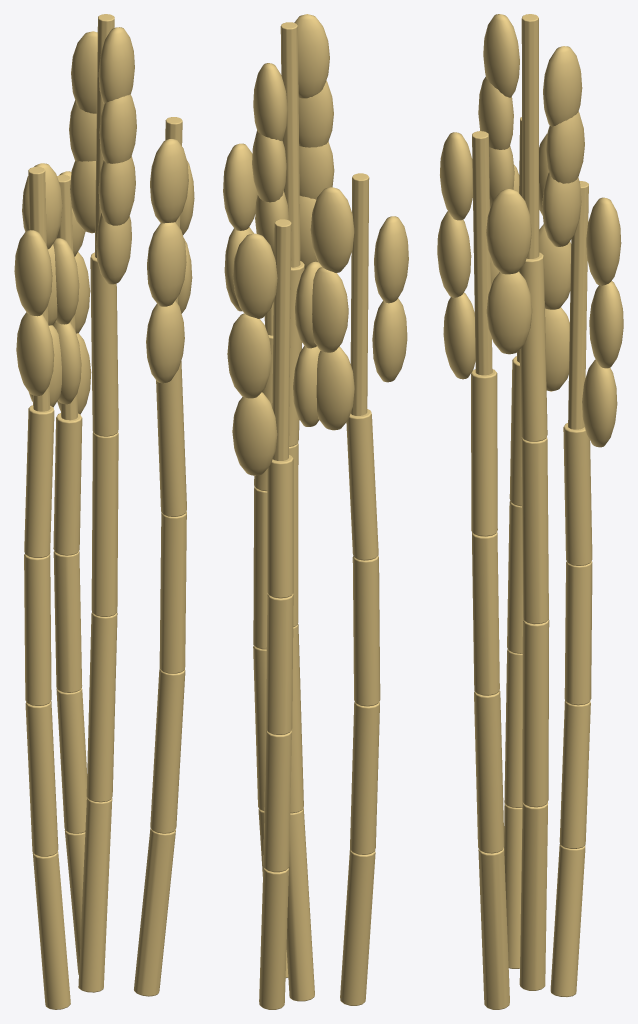
The model's file is WF_Quaternius_Wheat_RoundPass02.fbx.
3 views of the same model, side by side, from view 1: azimuth 30°, elevation 25°; view 2: azimuth 150°, elevation 25°; view 3: azimuth 270°, elevation 25° (orthographic).
Visible parts, largest first — view 1: WF_RoundPass01_Wheat_Stem_1_1, WF_RoundPass01_Wheat_Stem_1_2, WF_RoundPass01_Wheat_Stem_1_3, WF_RoundPass01_Wheat_Stem_1_4, WF_RoundPass01_Wheat_Stem_2_1, WF_RoundPass01_Wheat_Stem_2_2, WF_RoundPass01_Wheat_Stem_2_3, WF_RoundPass01_Wheat_Stem_0_1, WF_RoundPass01_Wheat_Stem_0_2, WF_RoundPass01_Wheat_Stem_0_3, WF_RoundPass01_Wheat_Stem_0_4, WF_RoundPass01_Wheat_Stem_2_4 (+29 smaller); view 2: WF_RoundPass01_Wheat_Stem_1_1, WF_RoundPass01_Wheat_Head_0_axis, WF_RoundPass01_Wheat_Stem_0_1, WF_RoundPass01_Wheat_Head_3_axis, WF_RoundPass01_Wheat_Stem_0_2, WF_RoundPass01_Wheat_Stem_0_3, WF_RoundPass01_Wheat_Stem_0_4, WF_RoundPass01_Wheat_Stem_3_4, WF_RoundPass01_Wheat_Stem_3_3, WF_RoundPass01_Wheat_Stem_3_2, WF_RoundPass01_Wheat_Stem_3_1, WF_RoundPass01_Wheat_Head_1_axis (+25 smaller); view 3: WF_RoundPass01_Wheat_Stem_1_2, WF_RoundPass01_Wheat_Stem_1_3, WF_RoundPass01_Wheat_Stem_1_1, WF_RoundPass01_Wheat_Stem_2_4, WF_RoundPass01_Wheat_Stem_2_2, WF_RoundPass01_Wheat_Stem_2_3, WF_RoundPass01_Wheat_Stem_2_1, WF_RoundPass01_Wheat_Stem_1_4, WF_RoundPass01_Wheat_Stem_3_1, WF_RoundPass01_Wheat_Head_2_axis, WF_RoundPass01_Wheat_Stem_3_2, WF_RoundPass01_Wheat_Head_1_axis (+24 smaller).
Part boxes in pixels (box(x1,y1,x2,y2)): WF_RoundPass01_Wheat_Stem_1_1: box(78, 798, 112, 992); WF_RoundPass01_Wheat_Stem_1_2: box(86, 612, 117, 802); WF_RoundPass01_Wheat_Stem_1_3: box(91, 431, 118, 616); WF_RoundPass01_Wheat_Stem_1_4: box(90, 252, 118, 436); WF_RoundPass01_Wheat_Stem_2_1: box(134, 828, 175, 996); WF_RoundPass01_Wheat_Stem_2_2: box(150, 669, 185, 833); WF_RoundPass01_Wheat_Stem_2_3: box(159, 511, 186, 673); WF_RoundPass01_Wheat_Stem_0_1: box(32, 851, 70, 1009); WF_RoundPass01_Wheat_Stem_0_2: box(25, 701, 58, 856); WF_RoundPass01_Wheat_Stem_0_3: box(24, 554, 51, 705); WF_RoundPass01_Wheat_Stem_0_4: box(24, 405, 54, 557); WF_RoundPass01_Wheat_Stem_2_4: box(156, 361, 186, 516); WF_RoundPass01_Wheat_Stem_1_1: box(286, 808, 314, 1001); WF_RoundPass01_Wheat_Head_0_axis: box(350, 173, 369, 415); WF_RoundPass01_Wheat_Stem_0_1: box(340, 849, 375, 1005); WF_RoundPass01_Wheat_Head_3_axis: box(272, 219, 291, 460); WF_RoundPass01_Wheat_Stem_0_2: box(350, 701, 379, 854); WF_RoundPass01_Wheat_Stem_0_3: box(352, 556, 380, 706); WF_RoundPass01_Wheat_Stem_0_4: box(346, 409, 378, 560); WF_RoundPass01_Wheat_Stem_3_4: box(267, 455, 293, 598); WF_RoundPass01_Wheat_Stem_3_3: box(266, 594, 293, 734); WF_RoundPass01_Wheat_Stem_3_2: box(263, 730, 291, 872); WF_RoundPass01_Wheat_Stem_3_1: box(259, 866, 288, 1009); WF_RoundPass01_Wheat_Head_1_axis: box(280, 22, 300, 267); WF_RoundPass01_Wheat_Stem_1_2: box(522, 619, 549, 807); WF_RoundPass01_Wheat_Stem_1_3: box(521, 437, 548, 624); WF_RoundPass01_Wheat_Stem_1_1: box(519, 802, 547, 990); WF_RoundPass01_Wheat_Stem_2_4: box(471, 369, 497, 536); WF_RoundPass01_Wheat_Stem_2_2: box(474, 691, 504, 853); WF_RoundPass01_Wheat_Stem_2_3: box(472, 532, 499, 695); WF_RoundPass01_Wheat_Stem_2_1: box(478, 847, 509, 1009); WF_RoundPass01_Wheat_Stem_1_4: box(519, 252, 547, 441); WF_RoundPass01_Wheat_Stem_3_1: box(550, 844, 585, 997); WF_RoundPass01_Wheat_Head_2_axis: box(472, 131, 492, 375); WF_RoundPass01_Wheat_Stem_3_2: box(559, 700, 590, 848); WF_RoundPass01_Wheat_Head_1_axis: box(521, 14, 539, 258).
Bounding box in the file's own units: 23.11 × 122 × 21.16.
